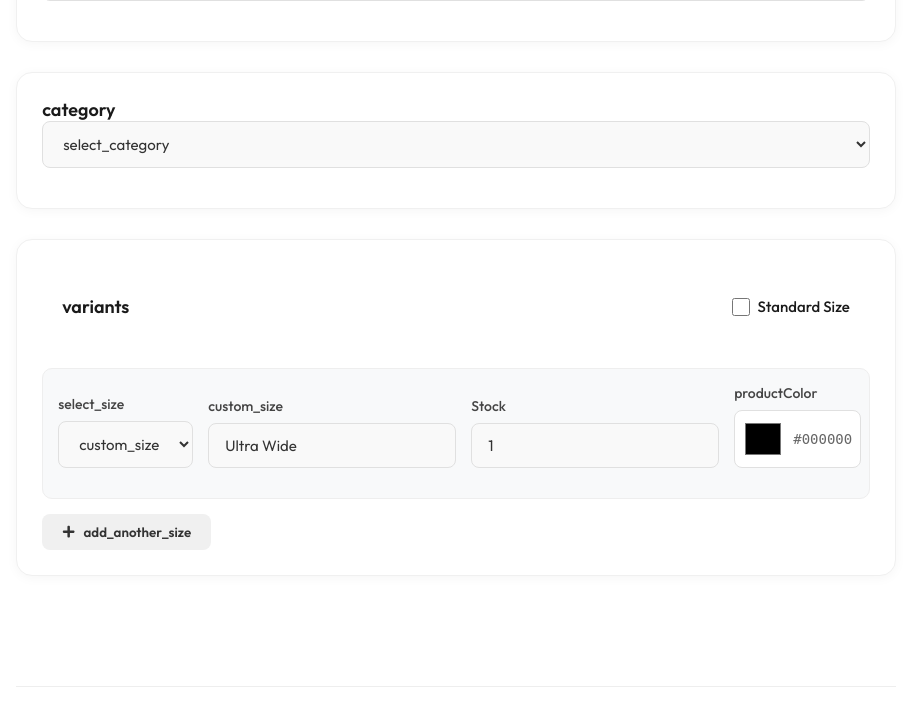
it: AddProduct Component › sets all sizes to "OS" and disables select when Standard Size is checked
(page scrolled)
# Klick ausführen
Click the checkbox labelled "Standard Size" at [740, 306], box [732, 298, 750, 316]
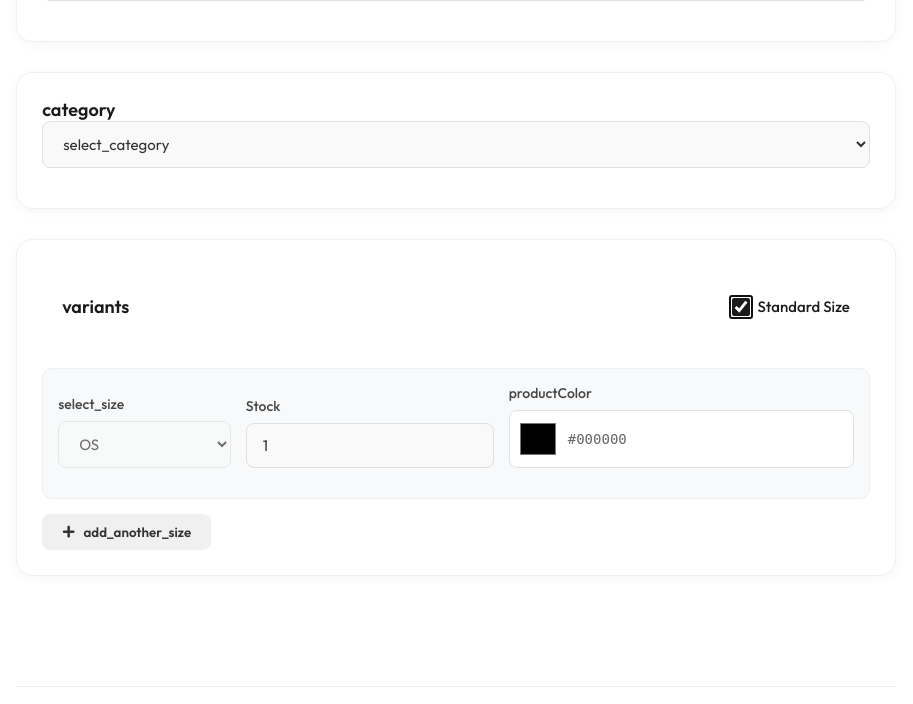
Result: the dropdown below "select_size" is disabled at [58, 421, 231, 468]
Result: the dropdown below "select_size" shows "OS" at [58, 421, 231, 468]
